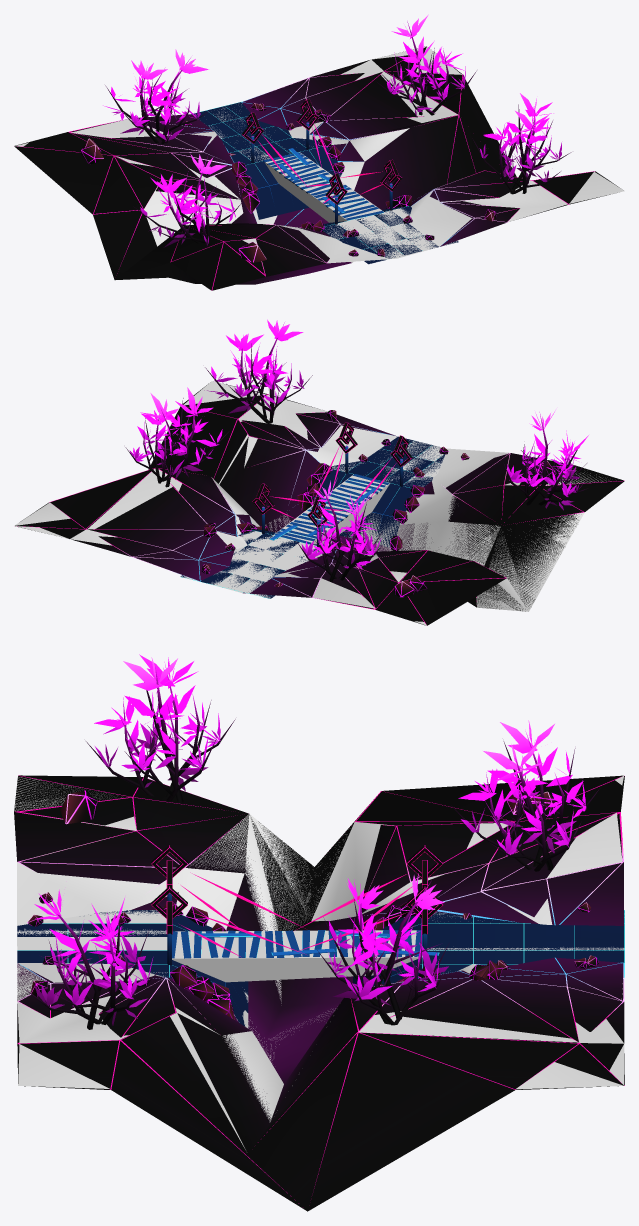
Rendered from Terrain_Forest_3.fbx.
The picture shows the model from 3 angles, top to bottom: view 1: azimuth 30°, elevation 25°; view 2: azimuth 150°, elevation 25°; view 3: azimuth 270°, elevation 25°; orthographic projection. The views are drawn at different scales.
Parts seen in each view (by area): view 1: Terrain_Forest_3, Terrain_Forest_3_Colider; view 2: Terrain_Forest_3, Terrain_Forest_3_Colider; view 3: Terrain_Forest_3, Terrain_Forest_3_Colider.
Part boxes in pixels (x1,y1,x2,y2): Terrain_Forest_3: [14, 14, 619, 290]; Terrain_Forest_3_Colider: [14, 46, 624, 268]; Terrain_Forest_3: [15, 319, 624, 625]; Terrain_Forest_3_Colider: [14, 381, 606, 625]; Terrain_Forest_3: [14, 654, 624, 1211]; Terrain_Forest_3_Colider: [14, 776, 624, 1149].
Size of the model in its own units: 5766 by 2388 by 4631.
